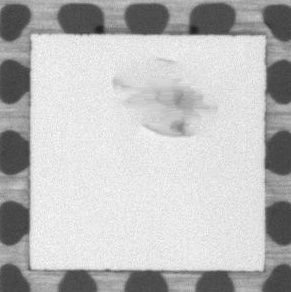DIE_INK: (110, 57, 215, 141)
